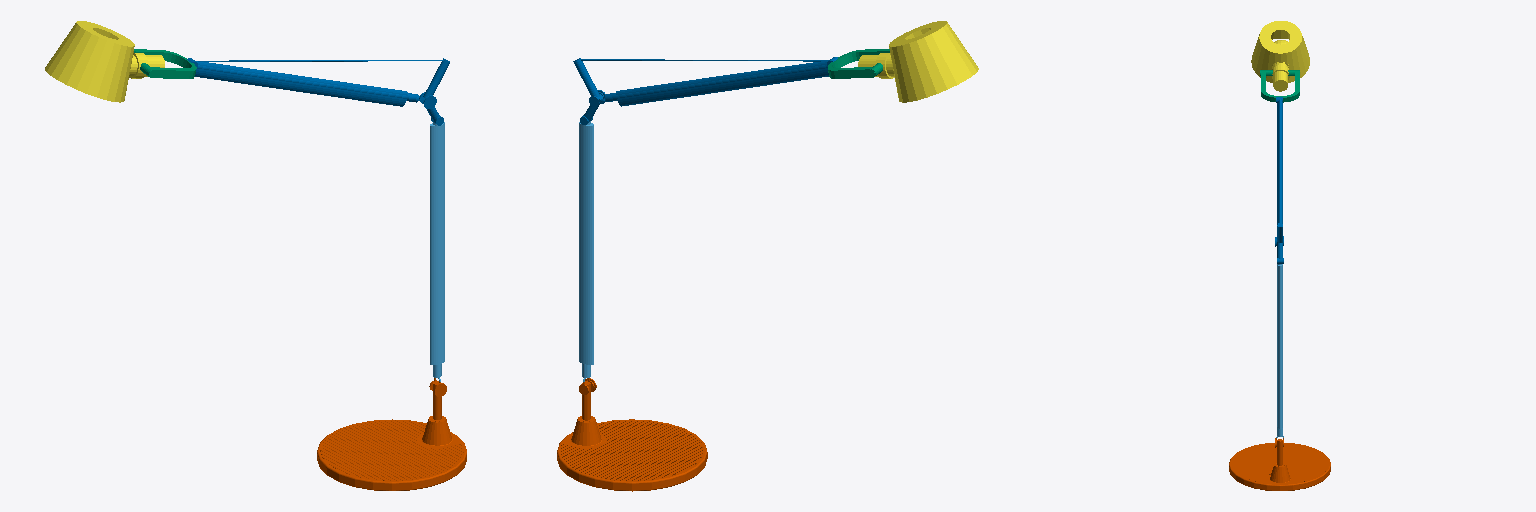
URDF robot description (partnet_273314626729b1e973222d877df1ecac):
<?xml version="1.0" ?>
<robot name="partnet_273314626729b1e973222d877df1ecac">
	<link name="base"/>
	<link name="link_0">
		<visual name="lamp_arm_straight_bar-25">
			<origin xyz="0 0.501004011222157 0.421094108130413"/>
			<geometry>
				<mesh filename="textured_objs/original-63.obj"/>
			</geometry>
		</visual>
		<visual name="lamp_arm_straight_bar-25">
			<origin xyz="0 0.501004011222157 0.421094108130413"/>
			<geometry>
				<mesh filename="textured_objs/original-62.obj"/>
			</geometry>
		</visual>
		<visual name="lamp_arm_straight_bar-25">
			<origin xyz="0 0.501004011222157 0.421094108130413"/>
			<geometry>
				<mesh filename="textured_objs/original-50.obj"/>
			</geometry>
		</visual>
		<collision>
			<origin xyz="0 0.501004011222157 0.421094108130413"/>
			<geometry>
				<mesh filename="textured_objs/original-63.obj"/>
			</geometry>
		</collision>
		<collision>
			<origin xyz="0 0.501004011222157 0.421094108130413"/>
			<geometry>
				<mesh filename="textured_objs/original-62.obj"/>
			</geometry>
		</collision>
		<collision>
			<origin xyz="0 0.501004011222157 0.421094108130413"/>
			<geometry>
				<mesh filename="textured_objs/original-50.obj"/>
			</geometry>
		</collision>
	</link>
	<joint name="joint_0" type="revolute">
		<origin xyz="0 -0.501004011222157 -0.421094108130413"/>
		<axis xyz="-1 0 0"/>
		<child link="link_0"/>
		<parent link="link_4"/>
		<limit lower="-0.7853981633974483" upper="0.7853981633974483"/>
	</joint>
	<link name="link_1">
		<visual name="lamp_arm_curved_bar-20">
			<origin xyz="0 -0.5954986511213731 -0.3148151334011385"/>
			<geometry>
				<mesh filename="textured_objs/original-64.obj"/>
			</geometry>
		</visual>
		<visual name="lamp_arm_curved_bar-20">
			<origin xyz="0 -0.5954986511213731 -0.3148151334011385"/>
			<geometry>
				<mesh filename="textured_objs/original-56.obj"/>
			</geometry>
		</visual>
		<collision>
			<origin xyz="0 -0.5954986511213731 -0.3148151334011385"/>
			<geometry>
				<mesh filename="textured_objs/original-64.obj"/>
			</geometry>
		</collision>
		<collision>
			<origin xyz="0 -0.5954986511213731 -0.3148151334011385"/>
			<geometry>
				<mesh filename="textured_objs/original-56.obj"/>
			</geometry>
		</collision>
	</link>
	<joint name="joint_1" type="revolute">
		<origin xyz="0 0.3310264154790775 0.7366252356316002"/>
		<axis xyz="1 0 0"/>
		<child link="link_1"/>
		<parent link="link_3"/>
		<limit lower="-1.0471975511965976" upper="1.0471975511965976"/>
	</joint>
	<link name="link_2">
		<visual name="lamp_cover_holder-6">
			<origin xyz="0.0040496185367449545 -0.4857680416119243 0.1159625071606532"/>
			<geometry>
				<mesh filename="textured_objs/original-69.obj"/>
			</geometry>
		</visual>
		<visual name="lamp_shade-9">
			<origin xyz="0.0040496185367449545 -0.4857680416119243 0.1159625071606532"/>
			<geometry>
				<mesh filename="textured_objs/original-68.obj"/>
			</geometry>
		</visual>
		<visual name="light_bulb-8">
			<origin xyz="0.0040496185367449545 -0.4857680416119243 0.1159625071606532"/>
			<geometry>
				<mesh filename="textured_objs/original-71.obj"/>
			</geometry>
		</visual>
		<visual name="light_bulb-8">
			<origin xyz="0.0040496185367449545 -0.4857680416119243 0.1159625071606532"/>
			<geometry>
				<mesh filename="textured_objs/original-75.obj"/>
			</geometry>
		</visual>
		<collision>
			<origin xyz="0.0040496185367449545 -0.4857680416119243 0.1159625071606532"/>
			<geometry>
				<mesh filename="textured_objs/original-69.obj"/>
			</geometry>
		</collision>
		<collision>
			<origin xyz="0.0040496185367449545 -0.4857680416119243 0.1159625071606532"/>
			<geometry>
				<mesh filename="textured_objs/original-68.obj"/>
			</geometry>
		</collision>
		<collision>
			<origin xyz="0.0040496185367449545 -0.4857680416119243 0.1159625071606532"/>
			<geometry>
				<mesh filename="textured_objs/original-71.obj"/>
			</geometry>
		</collision>
		<collision>
			<origin xyz="0.0040496185367449545 -0.4857680416119243 0.1159625071606532"/>
			<geometry>
				<mesh filename="textured_objs/original-75.obj"/>
			</geometry>
		</collision>
	</link>
	<joint name="joint_2" type="continuous">
		<origin xyz="-0.0040496185367449545 -0.10973060950944885 -0.4307776405617917"/>
		<axis xyz="-5.395163513794664e-05 -0.23219592236892692 -0.9726690345253438"/>
		<child link="link_2"/>
		<parent link="link_1"/>
	</joint>
	<link name="link_3">
		<visual name="lamp_arm_straight_bar-24">
			<origin xyz="0 -0.2644722356422956 0.4218101022304617"/>
			<geometry>
				<mesh filename="textured_objs/original-49.obj"/>
			</geometry>
		</visual>
		<visual name="lamp_arm_straight_bar-24">
			<origin xyz="0 -0.2644722356422956 0.4218101022304617"/>
			<geometry>
				<mesh filename="textured_objs/original-60.obj"/>
			</geometry>
		</visual>
		<visual name="lamp_joint-17">
			<origin xyz="0 -0.2644722356422956 0.4218101022304617"/>
			<geometry>
				<mesh filename="textured_objs/original-61.obj"/>
			</geometry>
		</visual>
		<visual name="lamp_joint-18">
			<origin xyz="0 -0.2644722356422956 0.4218101022304617"/>
			<geometry>
				<mesh filename="textured_objs/original-52.obj"/>
			</geometry>
		</visual>
		<visual name="lamp_joint-18">
			<origin xyz="0 -0.2644722356422956 0.4218101022304617"/>
			<geometry>
				<mesh filename="textured_objs/original-58.obj"/>
			</geometry>
		</visual>
		<visual name="lamp_joint-18">
			<origin xyz="0 -0.2644722356422956 0.4218101022304617"/>
			<geometry>
				<mesh filename="textured_objs/original-51.obj"/>
			</geometry>
		</visual>
		<visual name="lamp_joint-19">
			<origin xyz="0 -0.2644722356422956 0.4218101022304617"/>
			<geometry>
				<mesh filename="textured_objs/original-65.obj"/>
			</geometry>
		</visual>
		<visual name="lamp_arm_straight_bar-21">
			<origin xyz="0 -0.2644722356422956 0.4218101022304617"/>
			<geometry>
				<mesh filename="textured_objs/original-53.obj"/>
			</geometry>
		</visual>
		<visual name="lamp_arm_straight_bar-21">
			<origin xyz="0 -0.2644722356422956 0.4218101022304617"/>
			<geometry>
				<mesh filename="textured_objs/original-59.obj"/>
			</geometry>
		</visual>
		<visual name="lamp_arm_straight_bar-22">
			<origin xyz="0 -0.2644722356422956 0.4218101022304617"/>
			<geometry>
				<mesh filename="textured_objs/original-66.obj"/>
			</geometry>
		</visual>
		<visual name="lamp_arm_straight_bar-23">
			<origin xyz="0 -0.2644722356422956 0.4218101022304617"/>
			<geometry>
				<mesh filename="textured_objs/original-48.obj"/>
			</geometry>
		</visual>
		<collision>
			<origin xyz="0 -0.2644722356422956 0.4218101022304617"/>
			<geometry>
				<mesh filename="textured_objs/original-49.obj"/>
			</geometry>
		</collision>
		<collision>
			<origin xyz="0 -0.2644722356422956 0.4218101022304617"/>
			<geometry>
				<mesh filename="textured_objs/original-60.obj"/>
			</geometry>
		</collision>
		<collision>
			<origin xyz="0 -0.2644722356422956 0.4218101022304617"/>
			<geometry>
				<mesh filename="textured_objs/original-61.obj"/>
			</geometry>
		</collision>
		<collision>
			<origin xyz="0 -0.2644722356422956 0.4218101022304617"/>
			<geometry>
				<mesh filename="textured_objs/original-52.obj"/>
			</geometry>
		</collision>
		<collision>
			<origin xyz="0 -0.2644722356422956 0.4218101022304617"/>
			<geometry>
				<mesh filename="textured_objs/original-58.obj"/>
			</geometry>
		</collision>
		<collision>
			<origin xyz="0 -0.2644722356422956 0.4218101022304617"/>
			<geometry>
				<mesh filename="textured_objs/original-51.obj"/>
			</geometry>
		</collision>
		<collision>
			<origin xyz="0 -0.2644722356422956 0.4218101022304617"/>
			<geometry>
				<mesh filename="textured_objs/original-65.obj"/>
			</geometry>
		</collision>
		<collision>
			<origin xyz="0 -0.2644722356422956 0.4218101022304617"/>
			<geometry>
				<mesh filename="textured_objs/original-53.obj"/>
			</geometry>
		</collision>
		<collision>
			<origin xyz="0 -0.2644722356422956 0.4218101022304617"/>
			<geometry>
				<mesh filename="textured_objs/original-59.obj"/>
			</geometry>
		</collision>
		<collision>
			<origin xyz="0 -0.2644722356422956 0.4218101022304617"/>
			<geometry>
				<mesh filename="textured_objs/original-66.obj"/>
			</geometry>
		</collision>
		<collision>
			<origin xyz="0 -0.2644722356422956 0.4218101022304617"/>
			<geometry>
				<mesh filename="textured_objs/original-48.obj"/>
			</geometry>
		</collision>
	</link>
	<joint name="joint_3" type="revolute">
		<origin xyz="0 0.7654762468644526 -0.0007159941000487446"/>
		<axis xyz="1 0 0"/>
		<child link="link_3"/>
		<parent link="link_0"/>
		<limit lower="-0.7853981633974483" upper="0.7853981633974483"/>
	</joint>
	<link name="link_4">
		<visual name="lamp_joint-16">
			<origin xyz="0 0 0"/>
			<geometry>
				<mesh filename="textured_objs/original-54.obj"/>
			</geometry>
		</visual>
		<visual name="lamp_joint-16">
			<origin xyz="0 0 0"/>
			<geometry>
				<mesh filename="textured_objs/original-57.obj"/>
			</geometry>
		</visual>
		<visual name="lamp_joint-16">
			<origin xyz="0 0 0"/>
			<geometry>
				<mesh filename="textured_objs/original-55.obj"/>
			</geometry>
		</visual>
		<visual name="lamp_base_part-28">
			<origin xyz="0 0 0"/>
			<geometry>
				<mesh filename="textured_objs/new-0.obj"/>
			</geometry>
		</visual>
		<visual name="lamp_arm_straight_bar-26">
			<origin xyz="0 0 0"/>
			<geometry>
				<mesh filename="textured_objs/new-1.obj"/>
			</geometry>
		</visual>
		<collision>
			<origin xyz="0 0 0"/>
			<geometry>
				<mesh filename="textured_objs/original-54.obj"/>
			</geometry>
		</collision>
		<collision>
			<origin xyz="0 0 0"/>
			<geometry>
				<mesh filename="textured_objs/original-57.obj"/>
			</geometry>
		</collision>
		<collision>
			<origin xyz="0 0 0"/>
			<geometry>
				<mesh filename="textured_objs/original-55.obj"/>
			</geometry>
		</collision>
		<collision>
			<origin xyz="0 0 0"/>
			<geometry>
				<mesh filename="textured_objs/new-0.obj"/>
			</geometry>
		</collision>
		<collision>
			<origin xyz="0 0 0"/>
			<geometry>
				<mesh filename="textured_objs/new-1.obj"/>
			</geometry>
		</collision>
	</link>
	<joint name="joint_4" type="fixed">
		<origin rpy="1.570796326794897 0 -1.570796326794897" xyz="0 0 0"/>
		<child link="link_4"/>
		<parent link="base"/>
	</joint>
</robot>

--- What the picture shows (computed from the rendered views, not written in the file) ---
The picture shows the robot from 3 angles, left to right: view 1: azimuth 30°, elevation 25°; view 2: azimuth 150°, elevation 25°; view 3: azimuth 270°, elevation 25°; orthographic projection.
Model partnet_273314626729b1e973222d877df1ecac with 6 links and 5 joints (3 revolute, 1 continuous, 1 fixed), rooted at base, posed every joint at zero.
Visible links, largest first — view 1: link_4, link_2, link_3, link_0, link_1; view 2: link_4, link_2, link_3, link_0, link_1; view 3: link_4, link_2, link_3, link_0, link_1.
Boxes of the visible links, x1,y1,x2,y2 form: link_4: (317,378,466,490); link_2: (45,21,164,102); link_3: (187,58,449,125); link_0: (430,122,444,381); link_1: (134,49,196,78); link_4: (557,378,707,491); link_2: (858,21,978,102); link_3: (573,57,837,124); link_0: (579,121,593,381); link_1: (828,49,889,78); link_4: (1229,438,1330,490); link_2: (1251,21,1309,91); link_3: (1275,97,1283,263); link_0: (1276,264,1283,437); link_1: (1260,70,1299,102).
Size in the robot's own frame: 1.21 by 0.3895 by 1.45 metres.
25 mesh visuals loaded from 25 distinct referenced files (25 OBJ).
